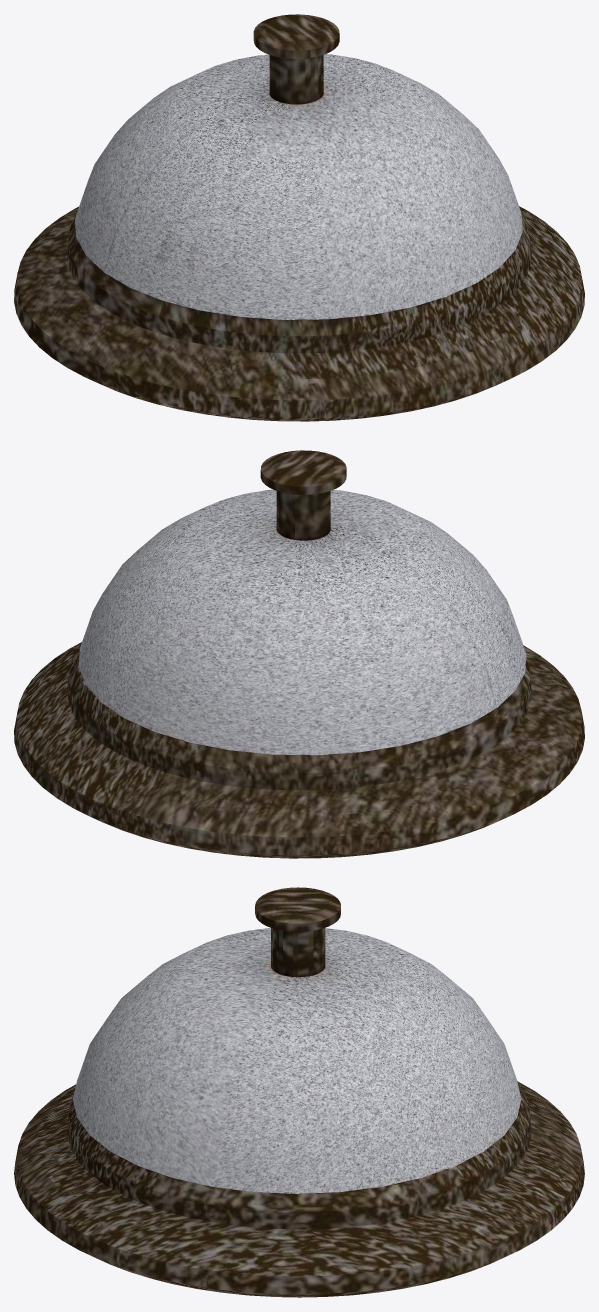
The model's file is bell.glb.
3 renders of one model, top to bottom at view 1: azimuth 30°, elevation 25°; view 2: azimuth 150°, elevation 25°; view 3: azimuth 270°, elevation 25°, orthographic.
Visible parts, largest first — view 1: bell; view 2: bell; view 3: bell.
Boxes of the visible parts, x1=… form: bell: x1=14, y1=14, x2=584, y2=421; bell: x1=14, y1=450, x2=584, y2=858; bell: x1=14, y1=887, x2=584, y2=1297.
Size of the model in its own units: 1.92 by 1.04 by 1.92.
1 material, 1 textured.
